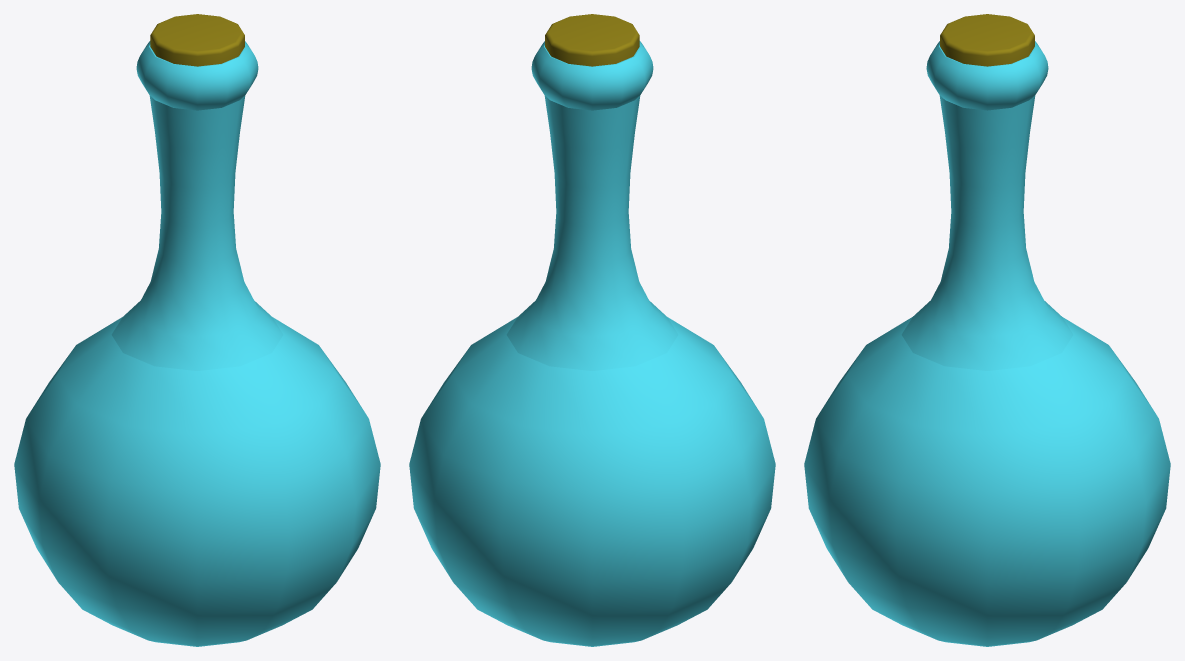
Rendered from potion14.FBX.
3 renders of one model, left to right at view 1: azimuth 30°, elevation 25°; view 2: azimuth 150°, elevation 25°; view 3: azimuth 270°, elevation 25°, orthographic.
Visible parts, largest first — view 1: potion_14glass; view 2: potion_14glass; view 3: potion_14glass.
Part boxes in pixels (left/top/right/bottom): potion_14glass: left=14, top=14, right=380, bottom=646; potion_14glass: left=409, top=14, right=775, bottom=646; potion_14glass: left=804, top=14, right=1170, bottom=646.
Bounding box in the file's own units: 27.21 × 48.33 × 27.21.
